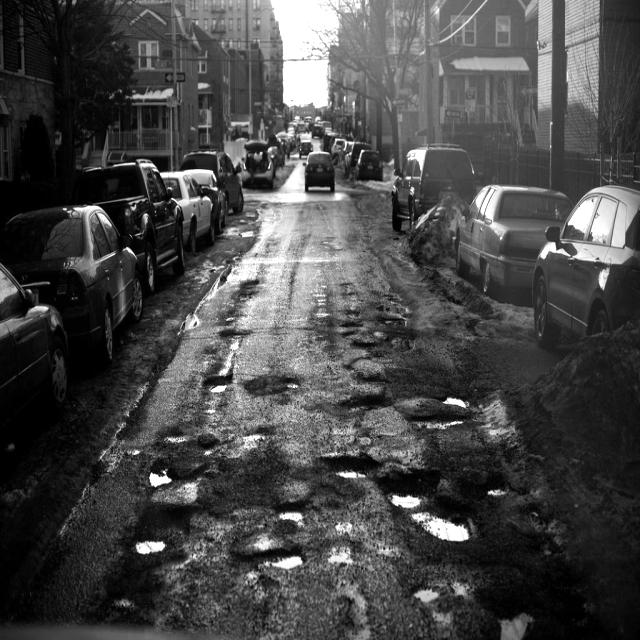pathole: (109, 413, 563, 640), (162, 303, 484, 406), (319, 274, 408, 312), (220, 266, 267, 313)
